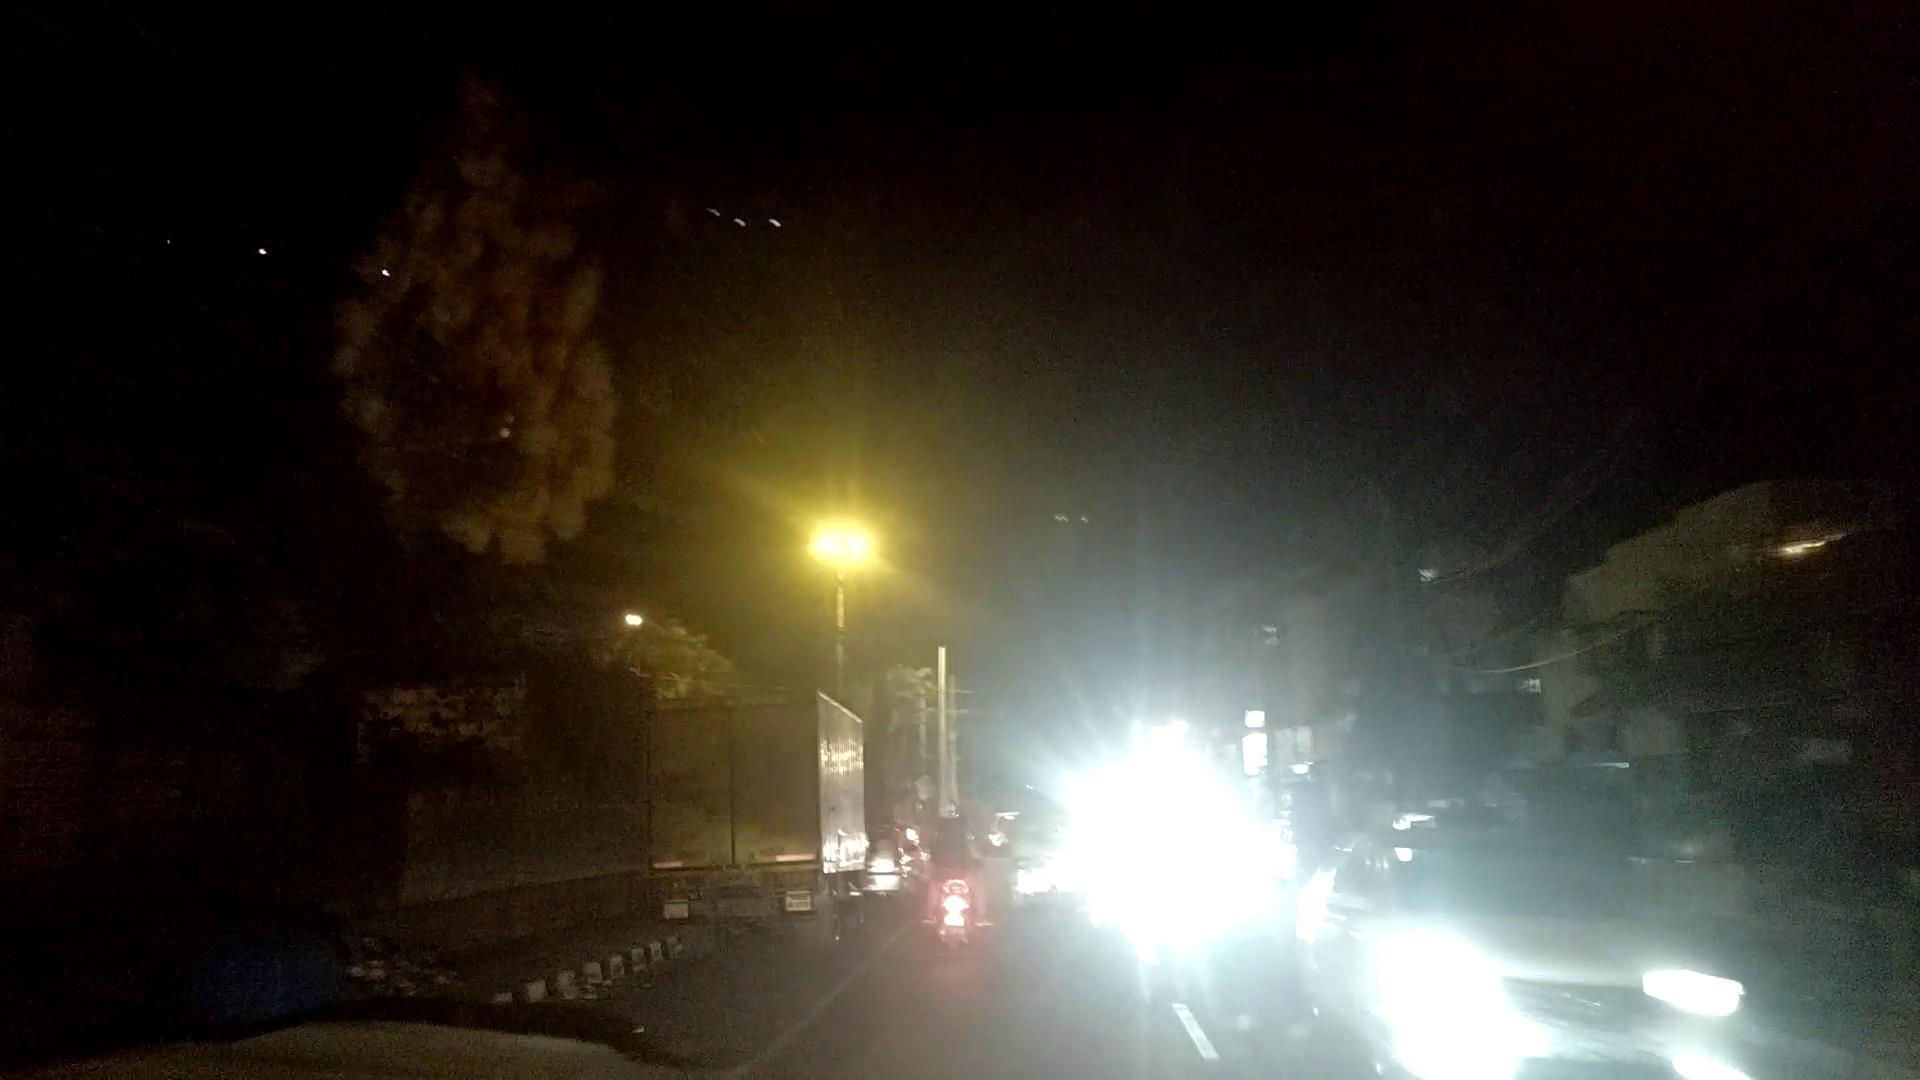on: (680, 392, 1000, 644)
